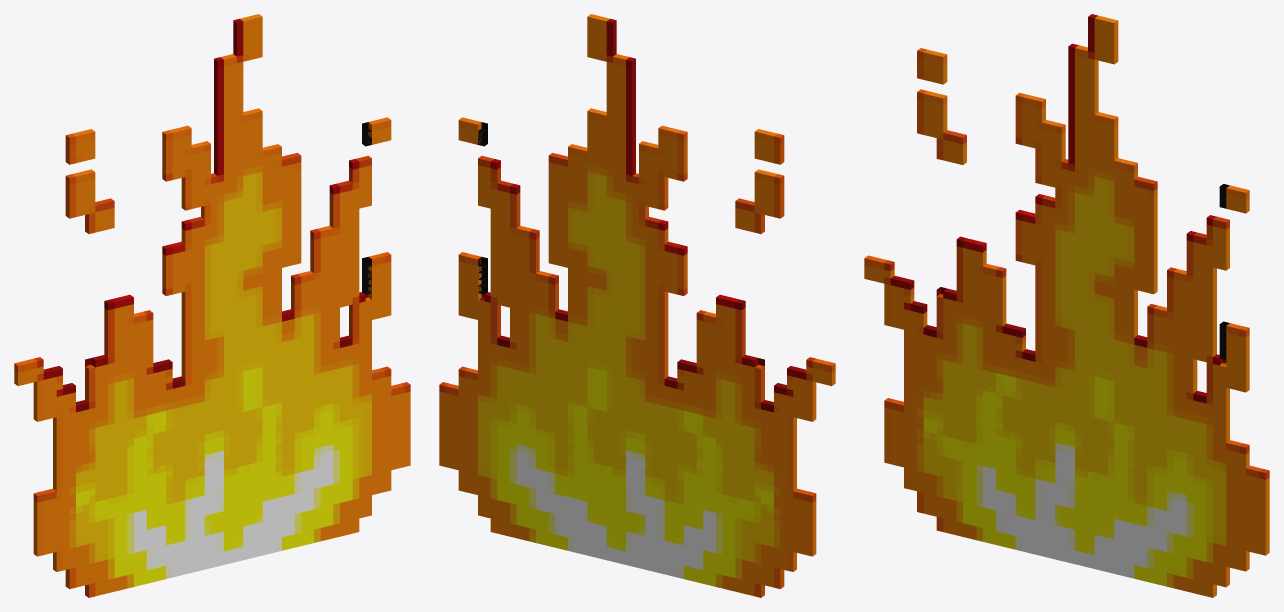
Rendered from cauterizerelic.fbx.
3 views of the same model, side by side, from view 1: azimuth 30°, elevation 25°; view 2: azimuth 150°, elevation 25°; view 3: azimuth 330°, elevation 25° (orthographic). The views are drawn at different scales.
Parts seen in each view (by area): view 1: cauterizerelic; view 2: cauterizerelic; view 3: cauterizerelic.
Boxes of the visible parts, bbox=[...] form: cauterizerelic: bbox=[14, 14, 410, 597]; cauterizerelic: bbox=[439, 14, 835, 597]; cauterizerelic: bbox=[864, 14, 1269, 597].
Size of the model in its own units: 6024 by 7900 by 98.75.
